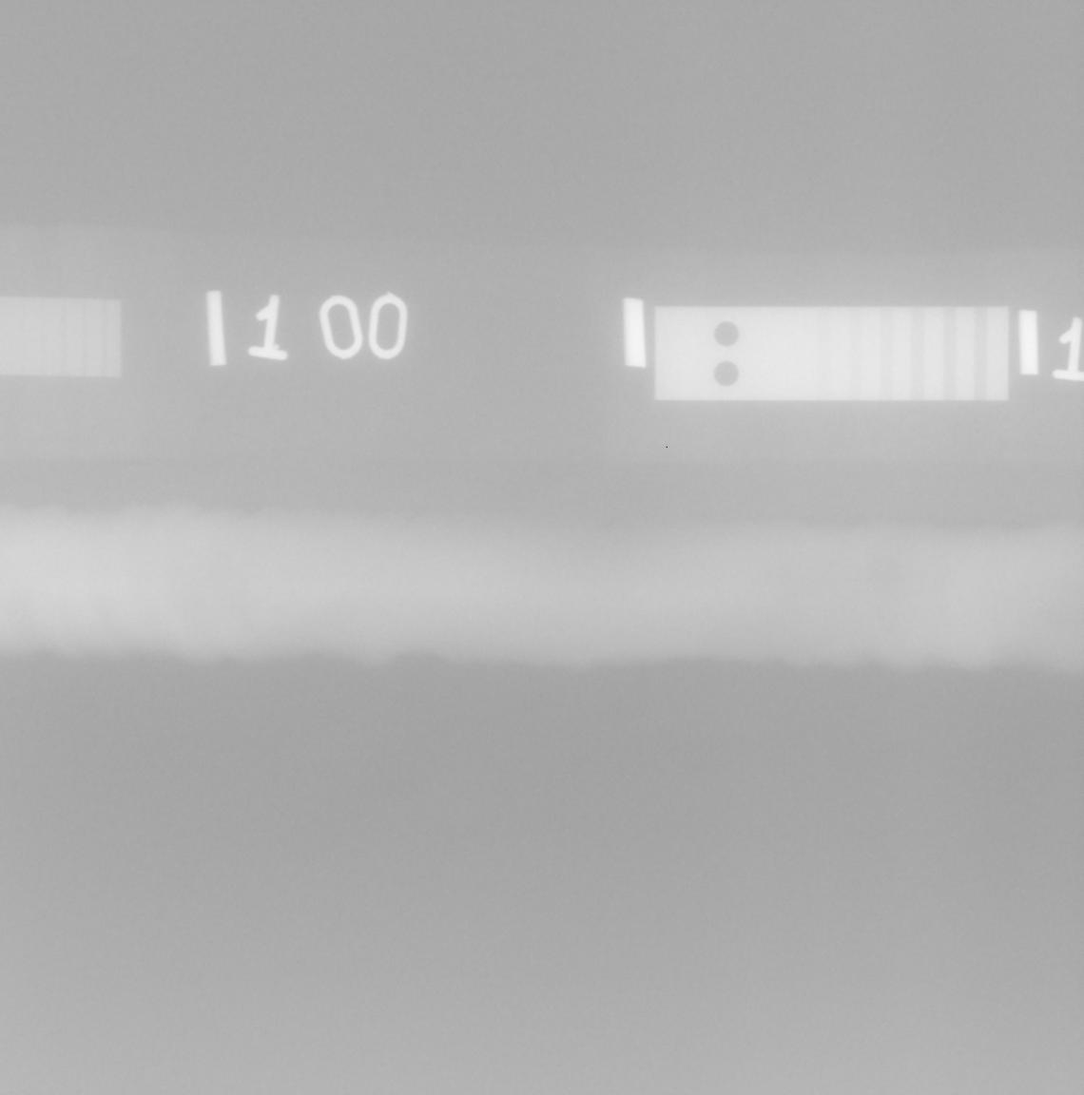Reference Standard 2: (654, 306, 1009, 401)
